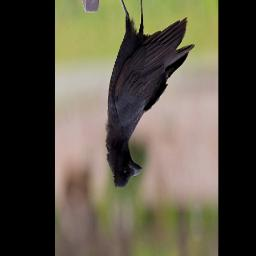Crow: (104, 0, 195, 189)
